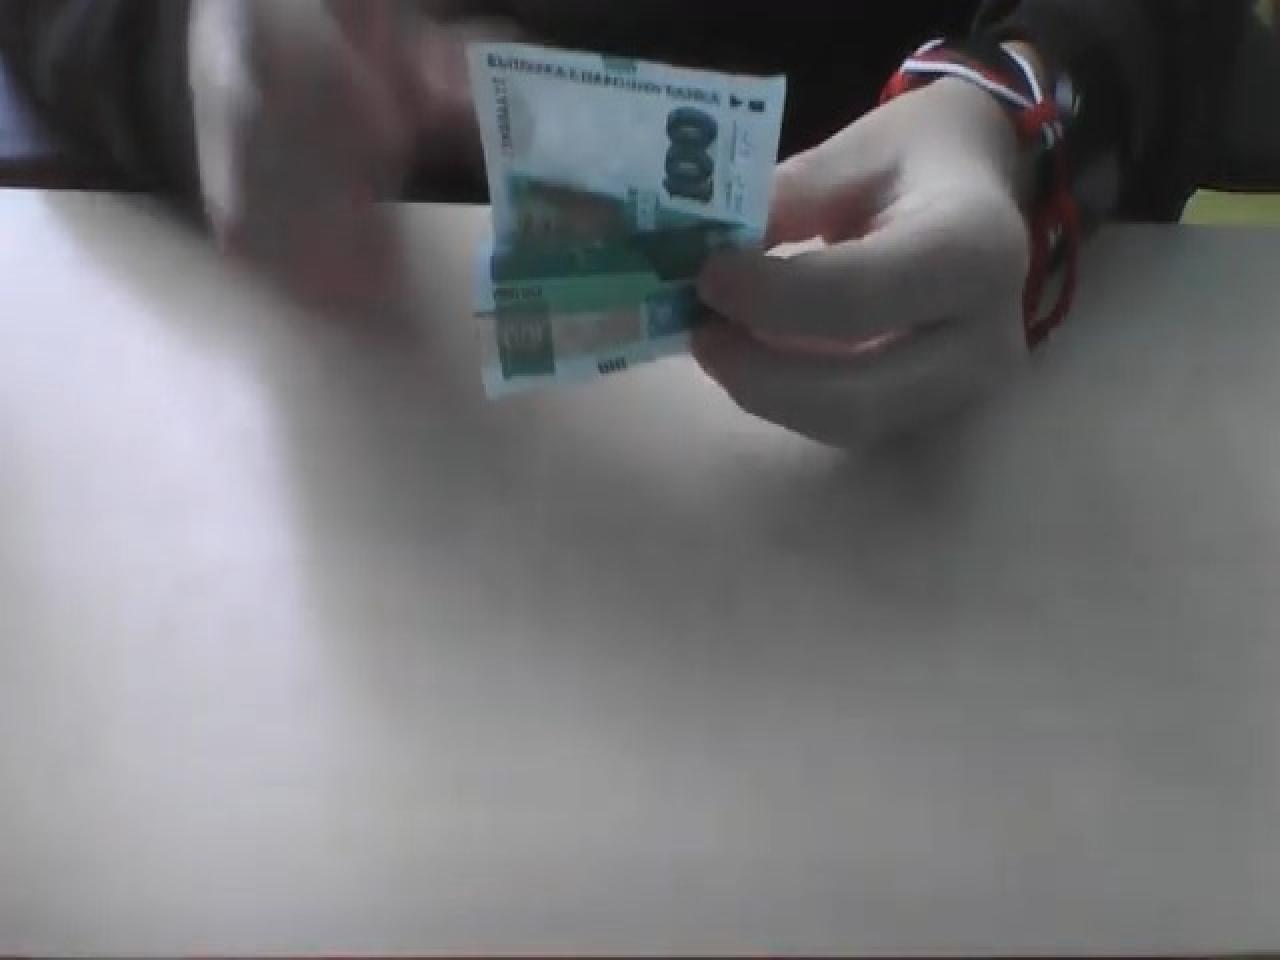100leva: (460, 37, 786, 394)
